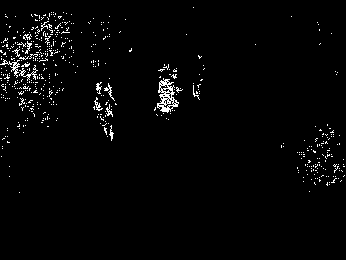person: (93, 80, 116, 141)
